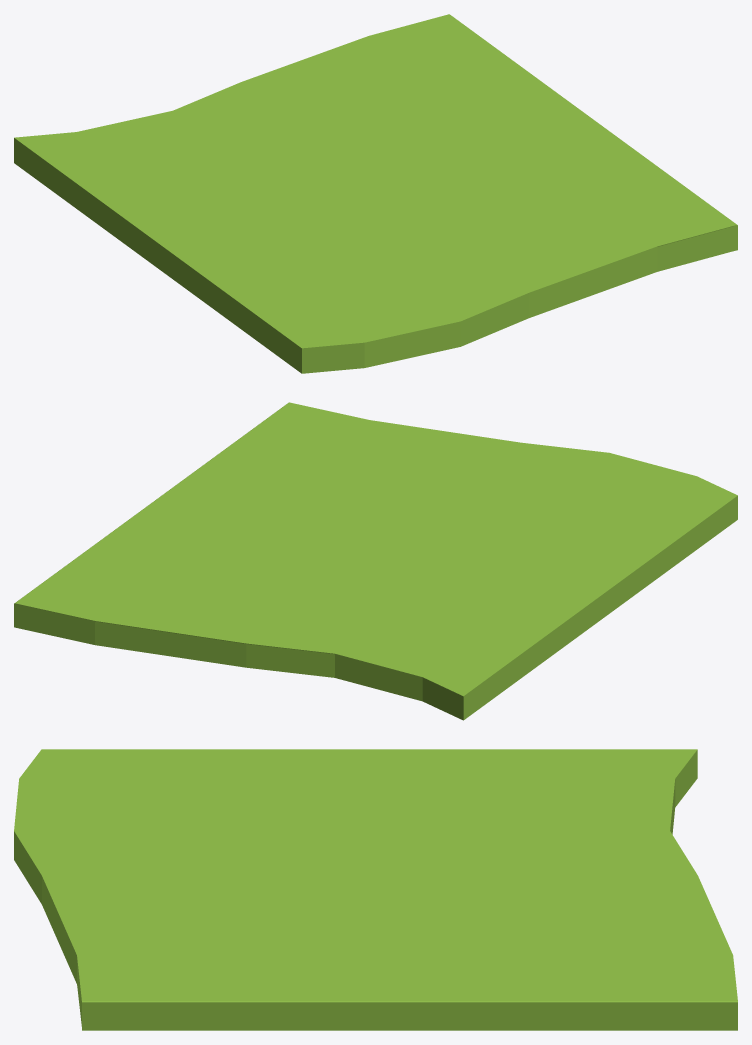
File: gnd_green_04.fbx
The picture shows the model from 3 angles, top to bottom: view 1: azimuth 30°, elevation 25°; view 2: azimuth 150°, elevation 25°; view 3: azimuth 270°, elevation 25°; orthographic projection. The views are drawn at different scales.
Visible parts, largest first — view 1: gnd_green_04; view 2: gnd_green_04; view 3: gnd_green_04.
Part boxes in pixels (x1,y1,x2,y2): gnd_green_04: [14, 14, 737, 373]; gnd_green_04: [14, 402, 737, 720]; gnd_green_04: [14, 749, 737, 1030].
Bounding box in the file's own units: 7648 × 410 × 9273.
